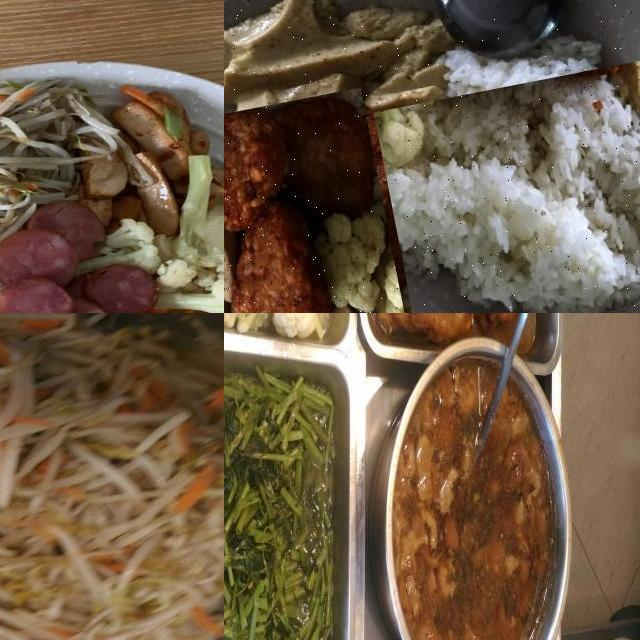Rice: (381, 51, 640, 313)
chinese_sausage: (0, 206, 155, 313)
mung_bean_sprouts: (0, 313, 224, 640), (0, 82, 131, 250)
triangle_hash_brown: (224, 96, 414, 313)
water_spinach: (224, 387, 342, 640)
